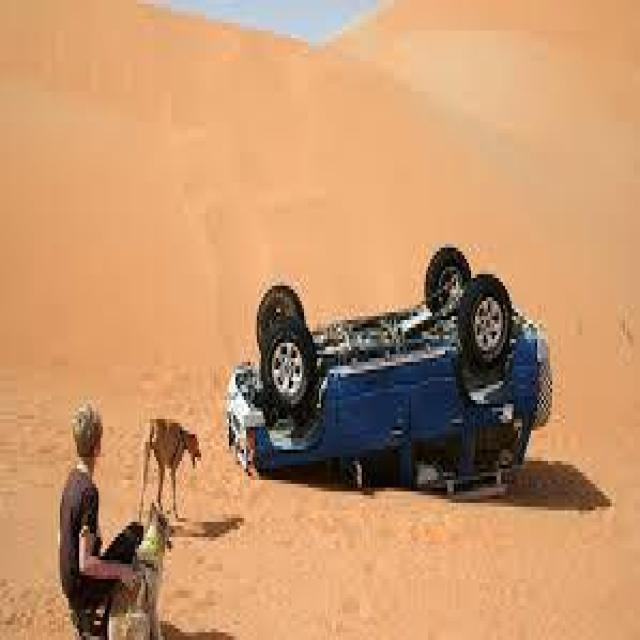severe: (218, 234, 556, 497)
